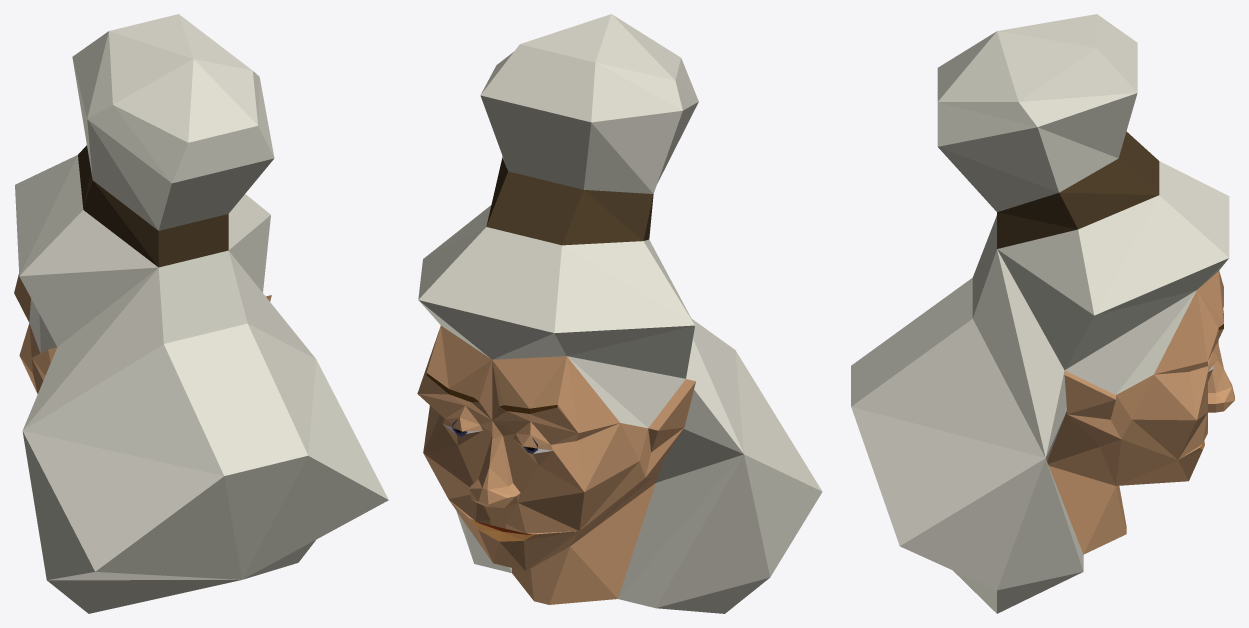
Rendered from npc_chat_lunderwin_0.obj.
3 views of the same model, side by side, from view 1: azimuth 30°, elevation 25°; view 2: azimuth 150°, elevation 25°; view 3: azimuth 270°, elevation 25° (orthographic). The views are drawn at different scales.
Bounding box in the file's own units: 0.9844 × 1.7 × 1.11.
